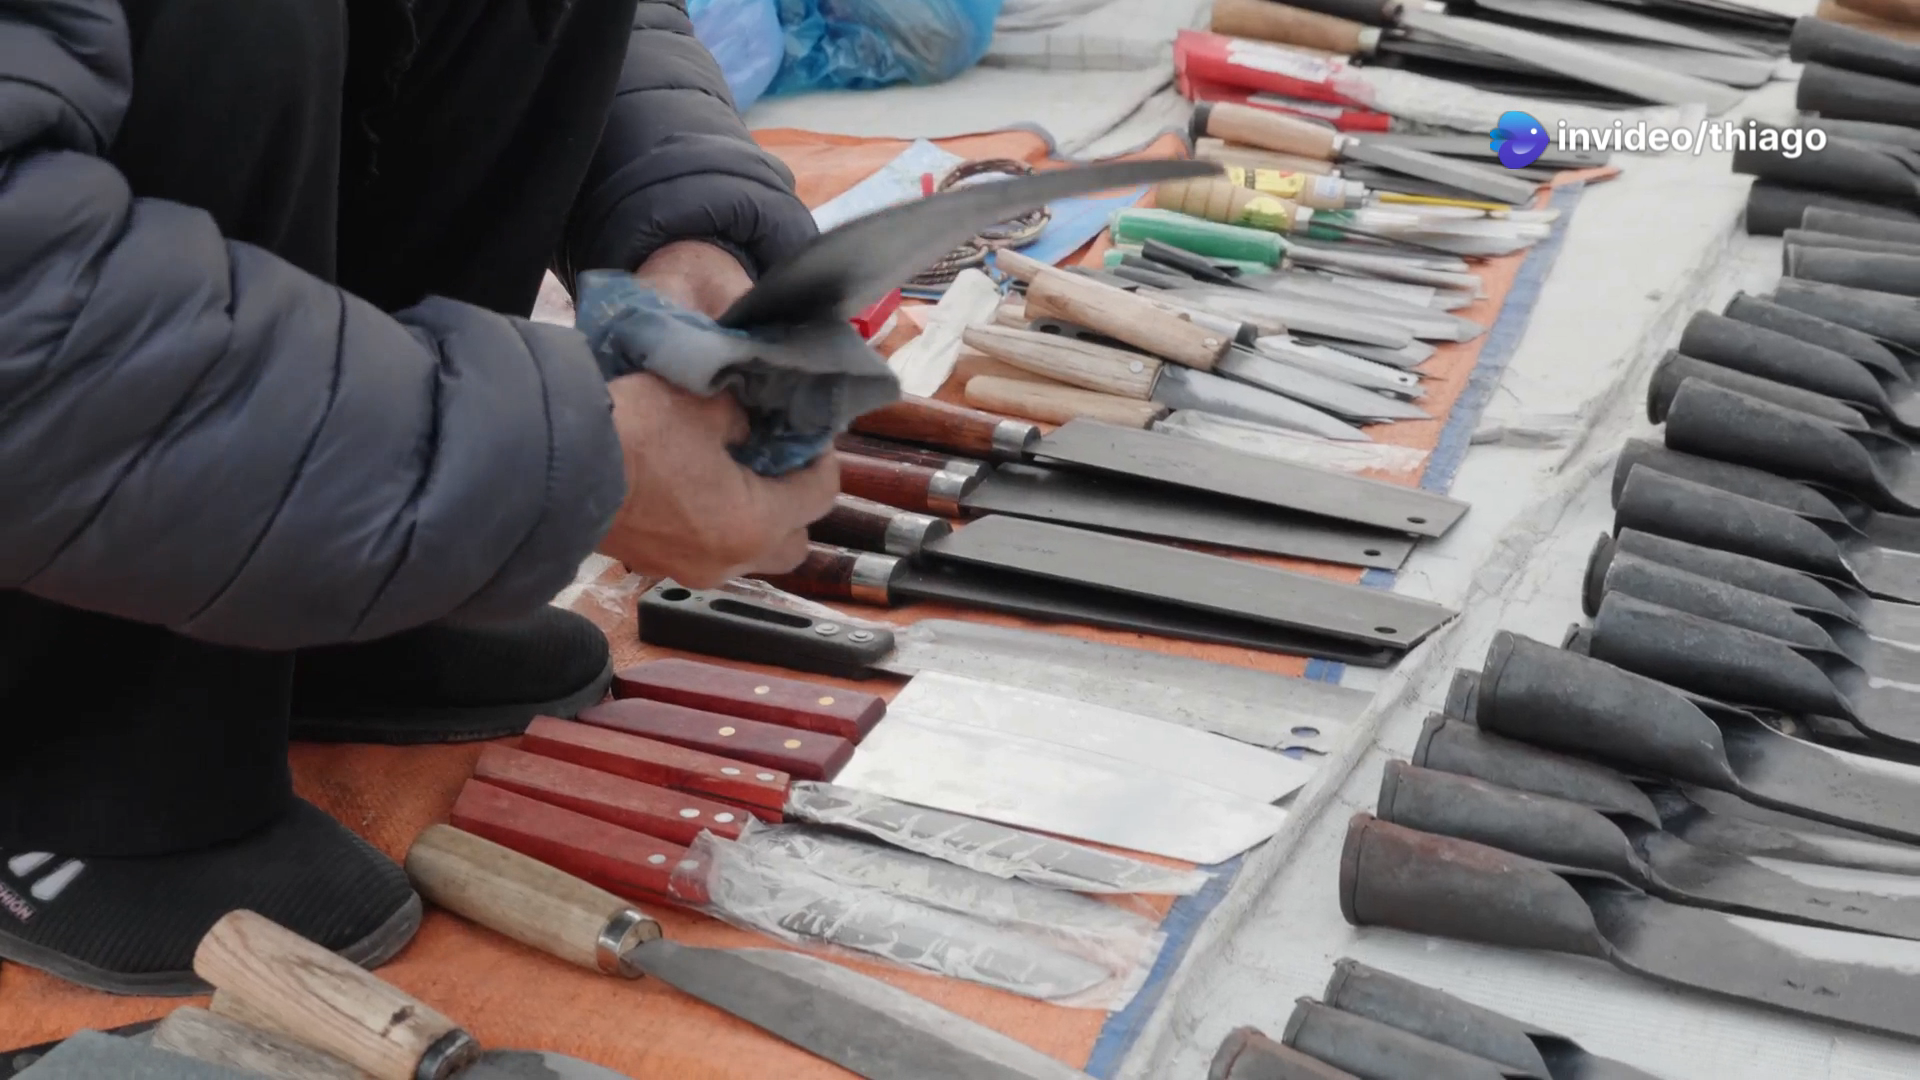cortante: (703, 158, 1228, 360), (851, 676, 1316, 864), (919, 498, 1469, 647), (885, 608, 1377, 749), (662, 926, 1102, 1080), (1036, 415, 1473, 542), (964, 458, 1415, 570), (1656, 899, 1920, 1050), (1406, 7, 1775, 113), (1739, 840, 1920, 971), (1785, 725, 1920, 852)
